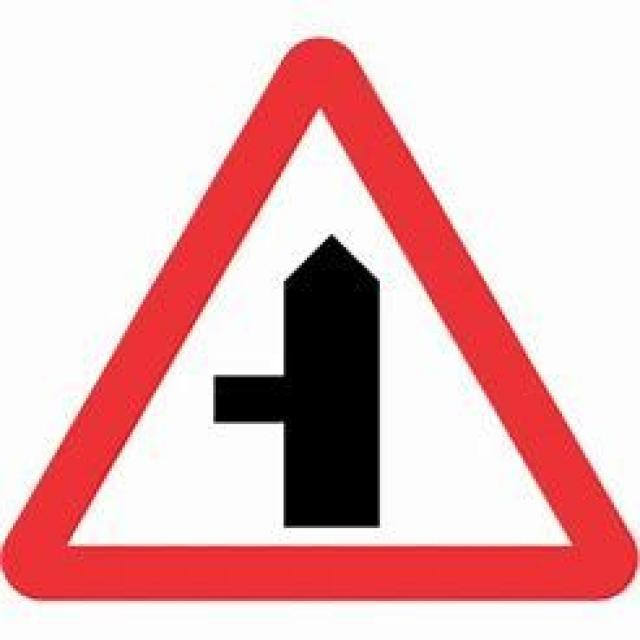side road left: (25, 32, 617, 601)
